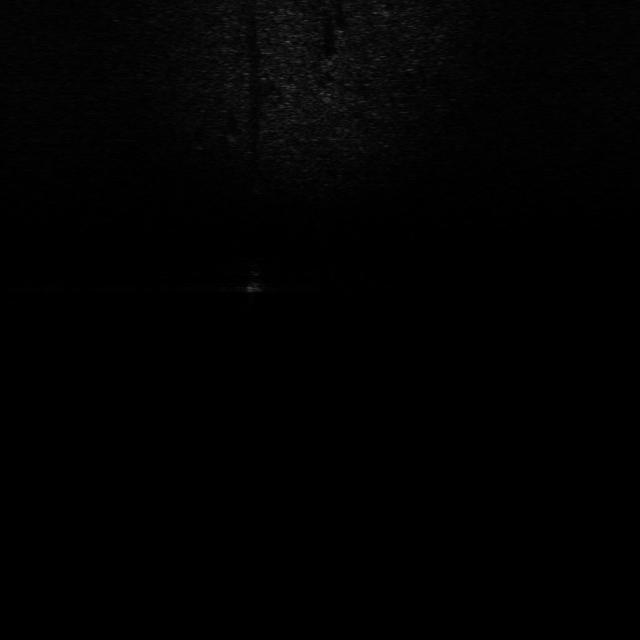human body: (229, 256, 273, 311)
